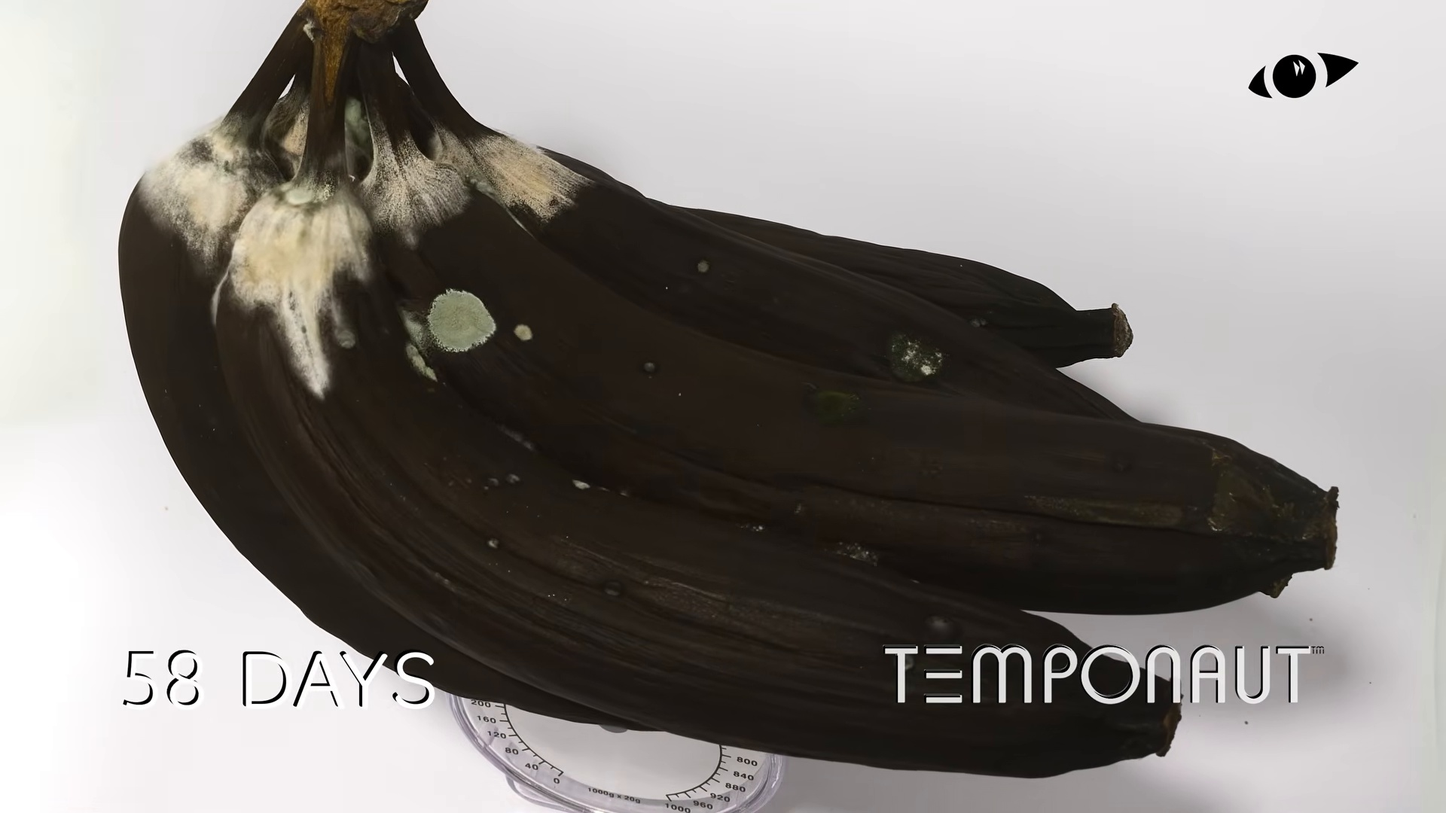banana_rotten: (113, 0, 1346, 782)
